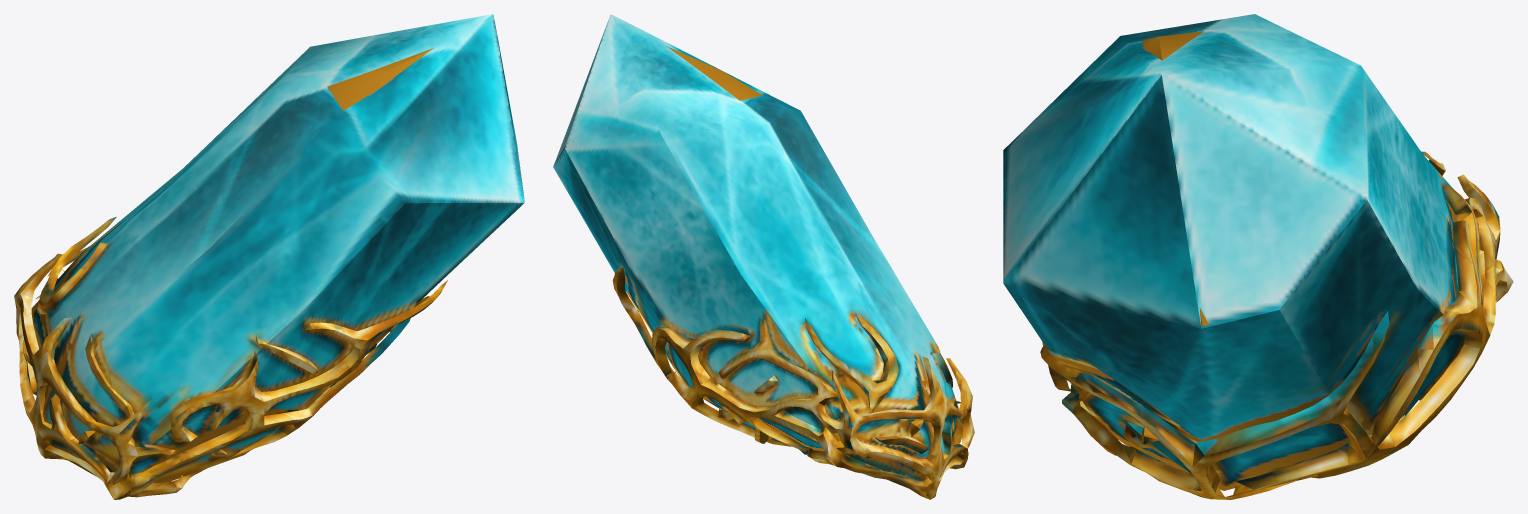
File: item_maw_craft_gem18.glb
The picture shows the model from 3 angles, left to right: view 1: azimuth 30°, elevation 25°; view 2: azimuth 150°, elevation 25°; view 3: azimuth 270°, elevation 25°; orthographic projection. The views are drawn at different scales.
Visible parts, largest first — view 1: maw_gem18; view 2: maw_gem18; view 3: maw_gem18.
Boxes of the visible parts, bbox=[...] form: maw_gem18: bbox=[14, 14, 524, 499]; maw_gem18: bbox=[553, 14, 974, 499]; maw_gem18: bbox=[1003, 14, 1513, 499].
Bounding box in the file's own units: 1 × 0.8695 × 0.653.
Materials: 1 (1 with a texture image).
